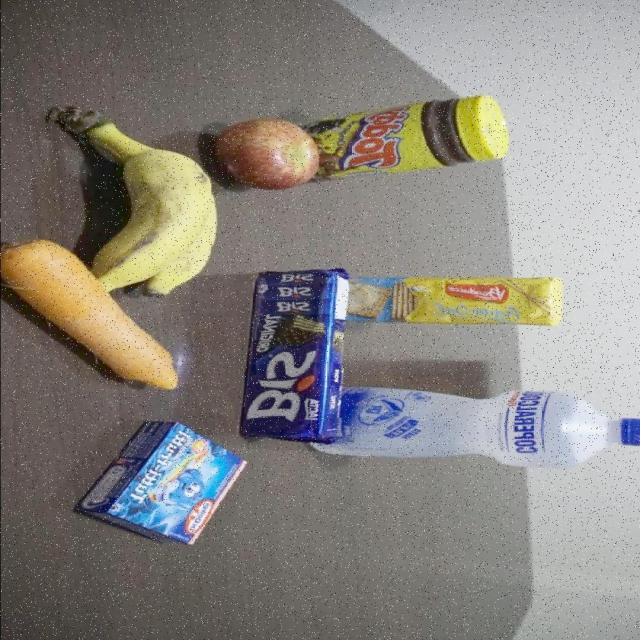AlcoholBottle: (348, 383, 640, 464)
Apple: (224, 112, 317, 193)
Banana: (59, 90, 215, 288)
Carrot: (12, 289, 181, 392)
ChocolatePowder: (322, 96, 509, 180)
Cracker: (353, 276, 563, 326)
Gelatine: (74, 420, 246, 544)
